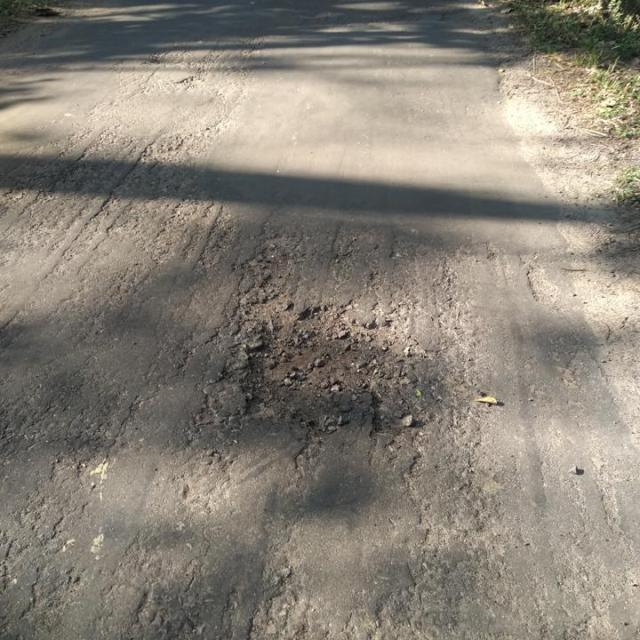pothole-eZet: (264, 314, 410, 398), (239, 230, 289, 316)
